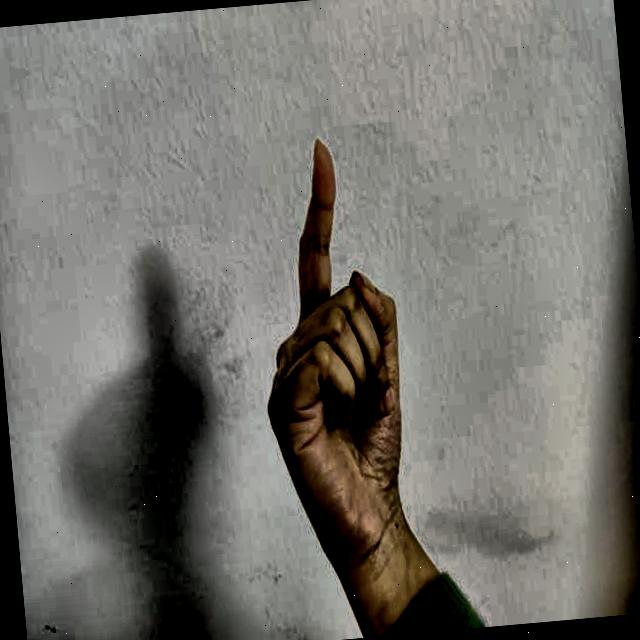U: (212, 81, 452, 579)
